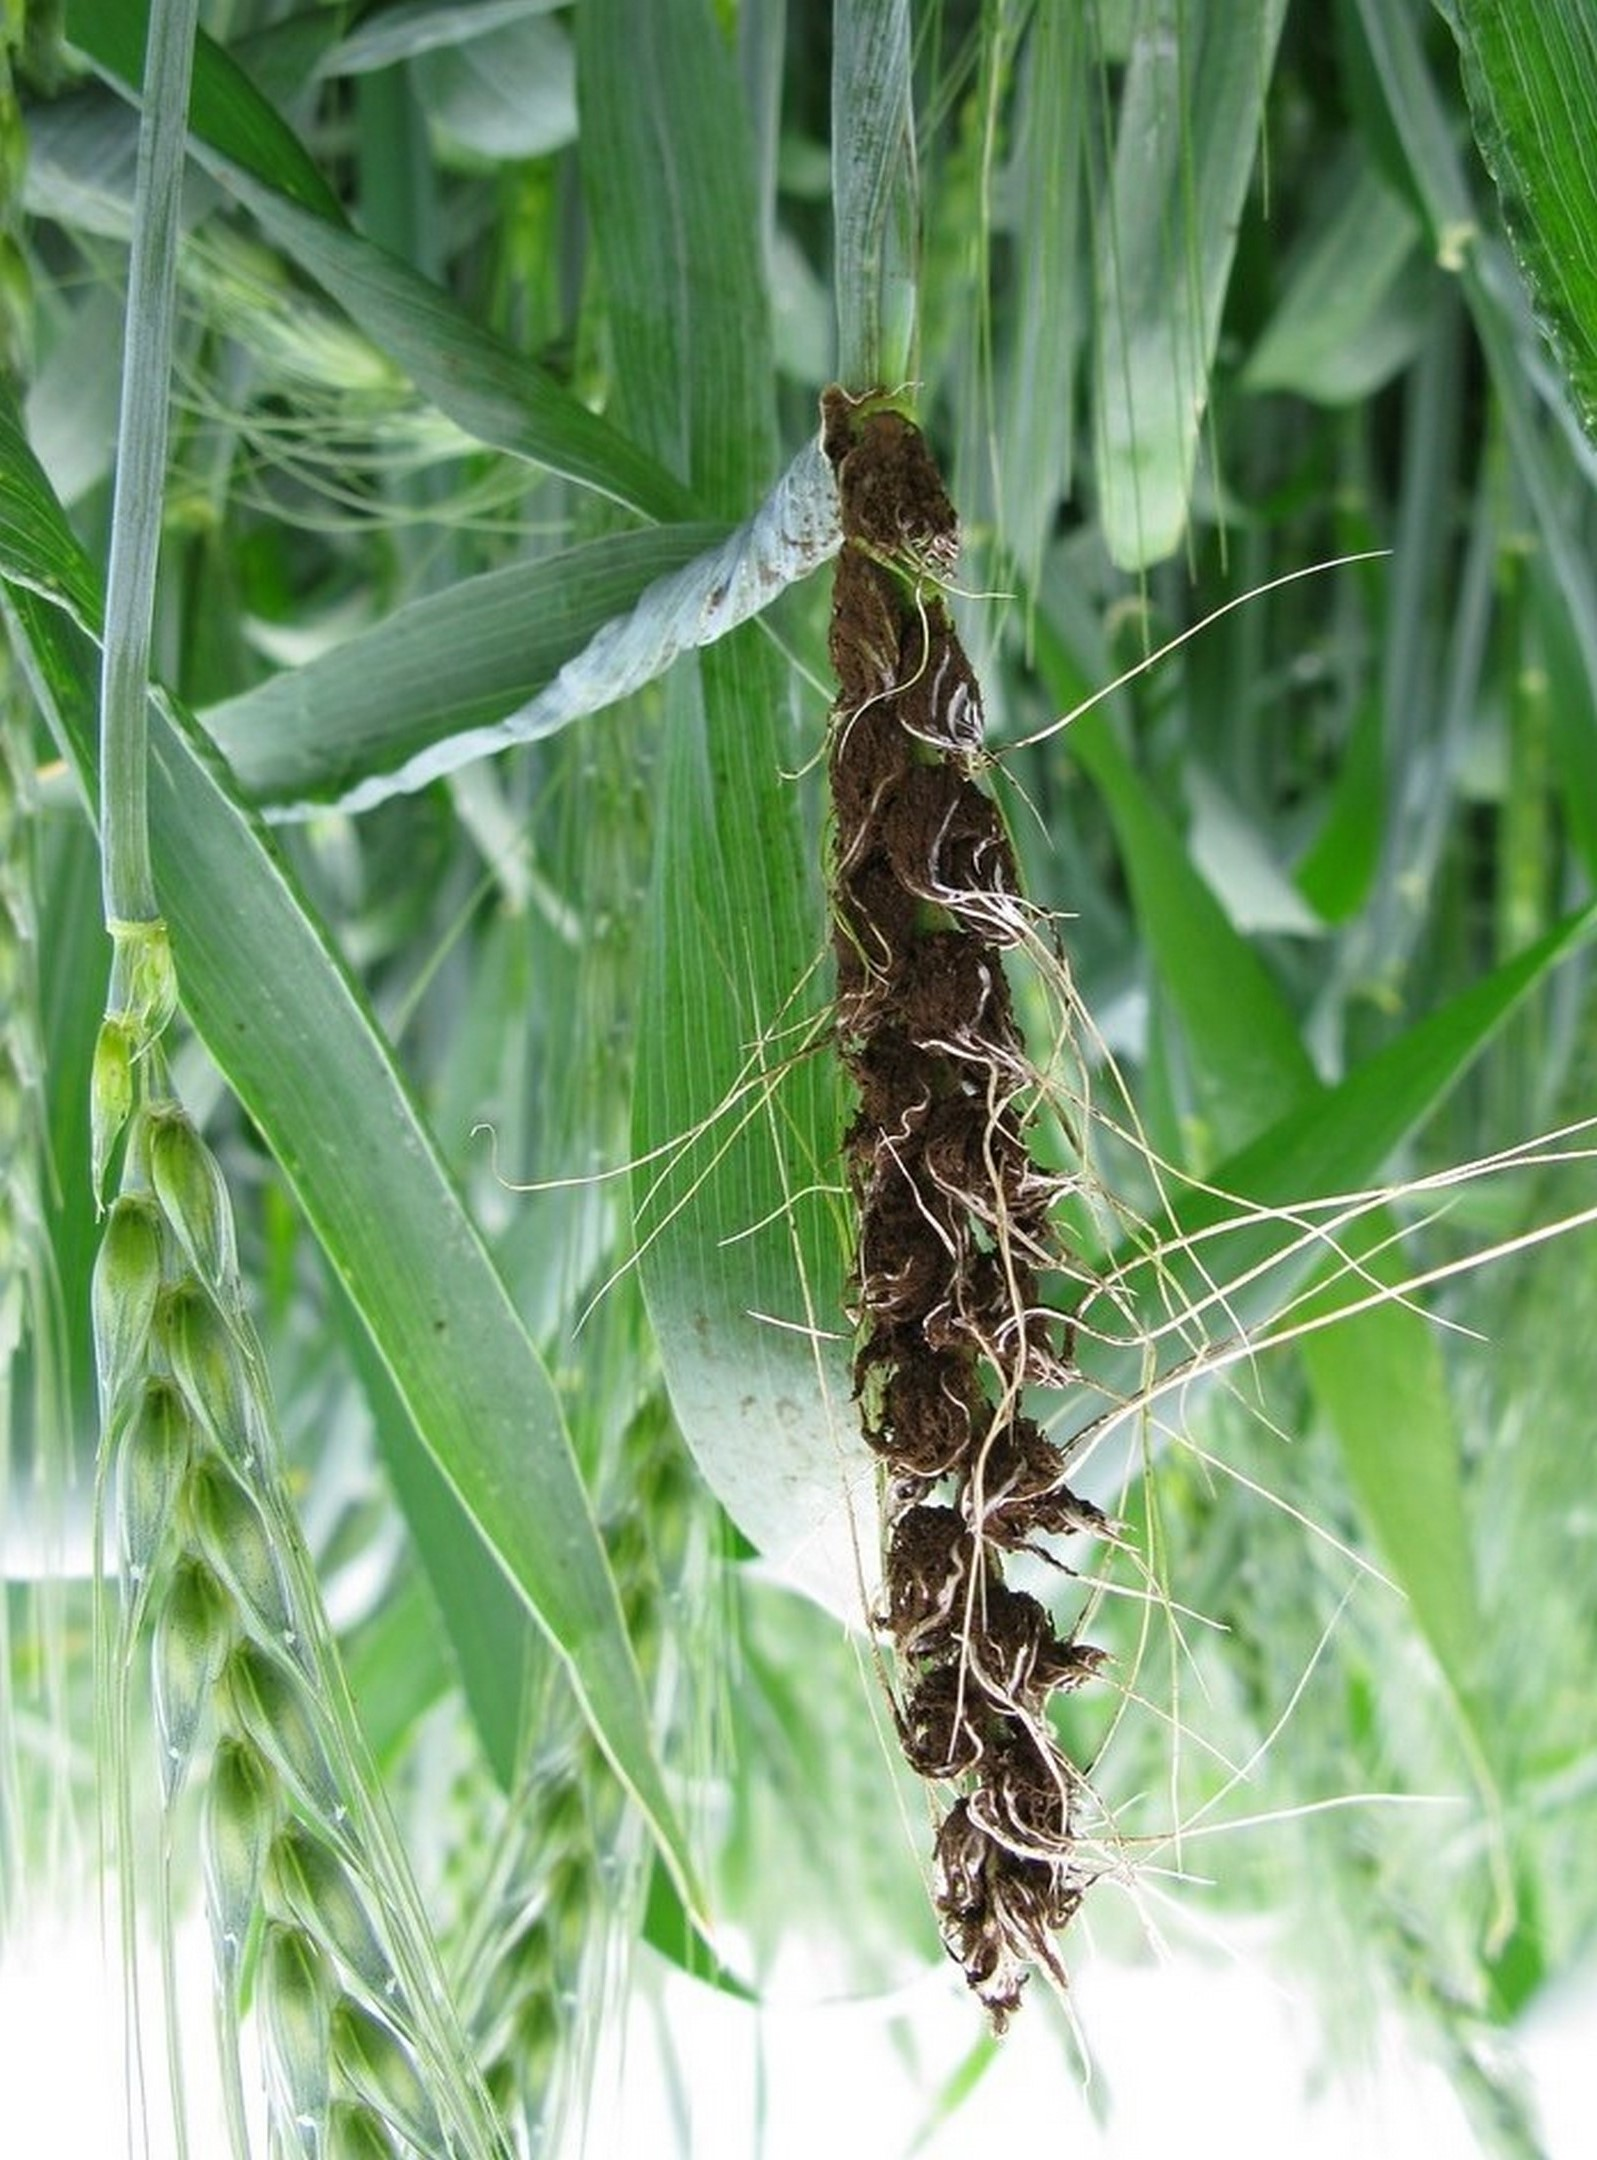Wheat Loose Smut: (773, 449, 1152, 1939)
